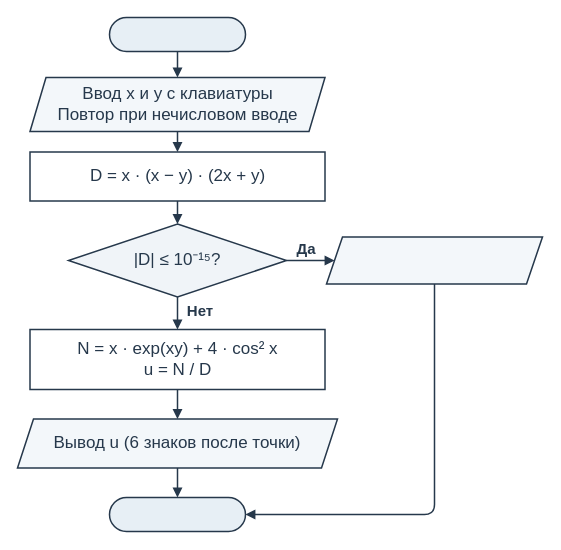
This 561x550 diagram has some shape labels left out. The shapes that lost their labels are listed below. From the top down, each one's centre as x and y in pixels, then its label:
point (177, 34): Начало
point (434, 260): Сообщение об ошибке
point (177, 514): Конец
